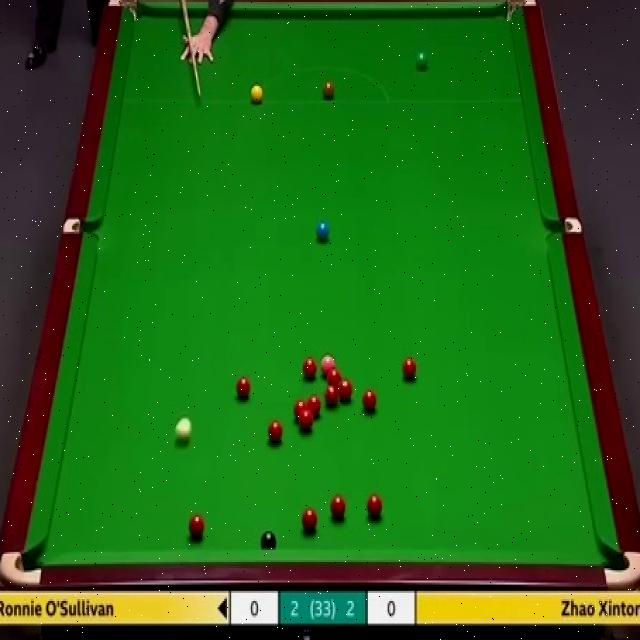black-ball: (262, 530, 280, 550)
blue-ball: (316, 222, 330, 240)
brown-ball: (322, 82, 336, 104)
green-ball: (416, 52, 426, 66)
pink-ball: (321, 355, 335, 375)
red-ball: (306, 395, 324, 421), (301, 508, 319, 534), (330, 492, 346, 521), (187, 514, 205, 539), (270, 420, 287, 444), (402, 355, 417, 380), (236, 378, 252, 400), (368, 495, 383, 518), (299, 410, 314, 432), (324, 386, 339, 407), (326, 368, 341, 388), (337, 382, 350, 404), (362, 391, 377, 410), (302, 358, 316, 378), (294, 401, 308, 420)
white-ball: (173, 418, 193, 446)
yellow-ball: (251, 84, 263, 105)
